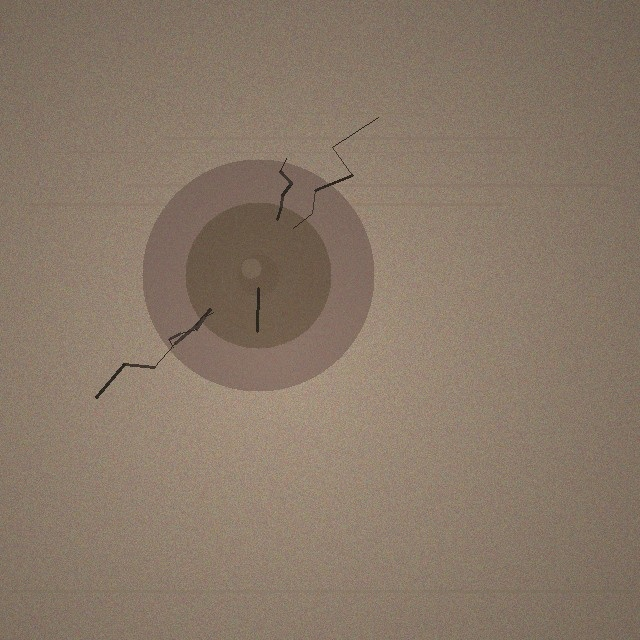crack: (142, 159, 374, 391)
